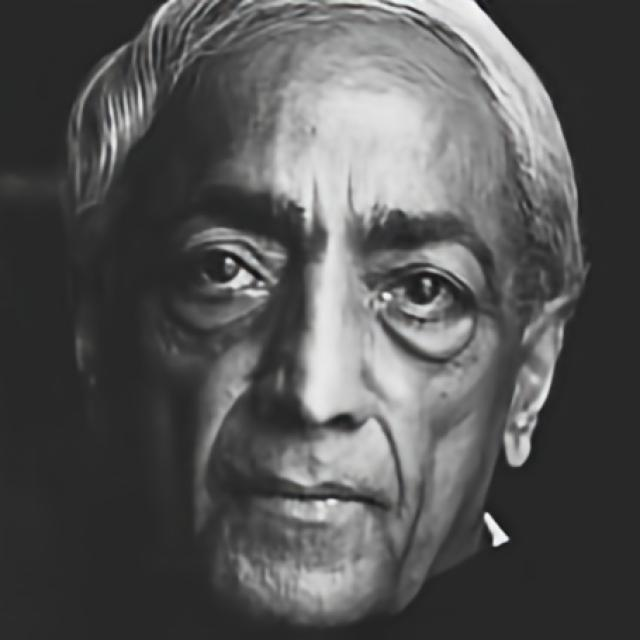sad: (98, 22, 516, 636)
